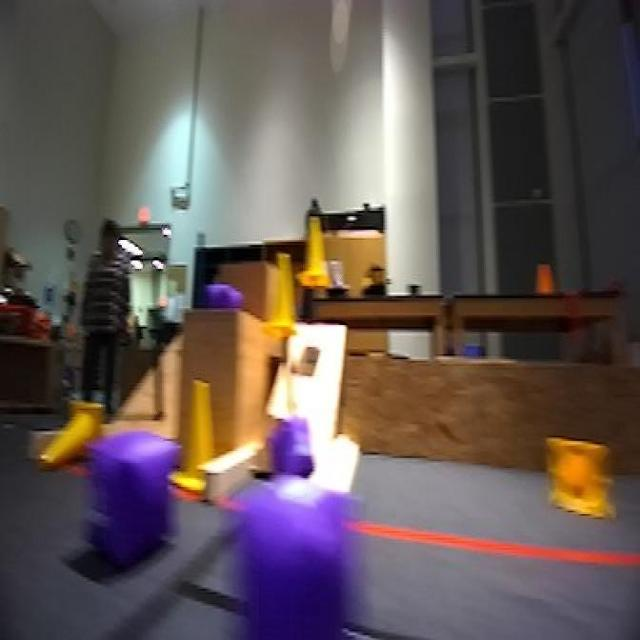frc_cone: (38, 396, 111, 475), (553, 434, 604, 524), (179, 376, 215, 473), (297, 204, 333, 283), (265, 255, 293, 332)
frc_cube: (268, 500, 389, 640), (94, 453, 172, 572), (256, 410, 317, 512), (206, 276, 244, 315)
